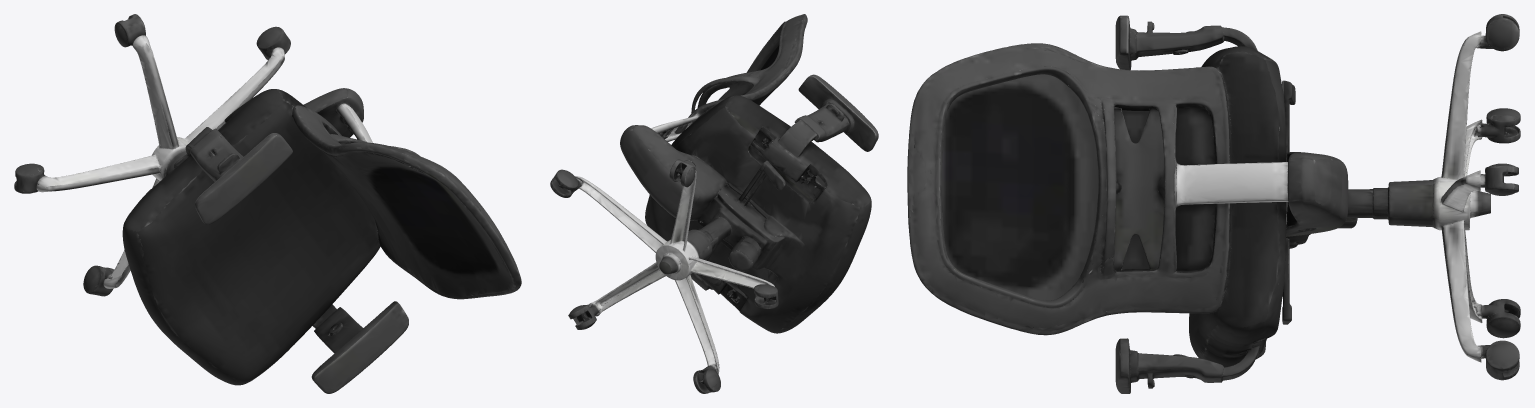
3 views of the same model, side by side, from view 1: azimuth 30°, elevation 25°; view 2: azimuth 150°, elevation 25°; view 3: azimuth 270°, elevation 25° (orthographic). The views are drawn at different scales.
Visible parts, largest first — view 1: Pushkar.001; view 2: Pushkar.001; view 3: Pushkar.001.
Boxes of the visible parts, box(x1,y1,x2,y2) form: Pushkar.001: box(14, 14, 521, 393); Pushkar.001: box(550, 14, 878, 393); Pushkar.001: box(907, 14, 1520, 393).
Size of the model in its own units: 0.0212 by 0.0209 by 0.0323.
1 material, 1 textured.
